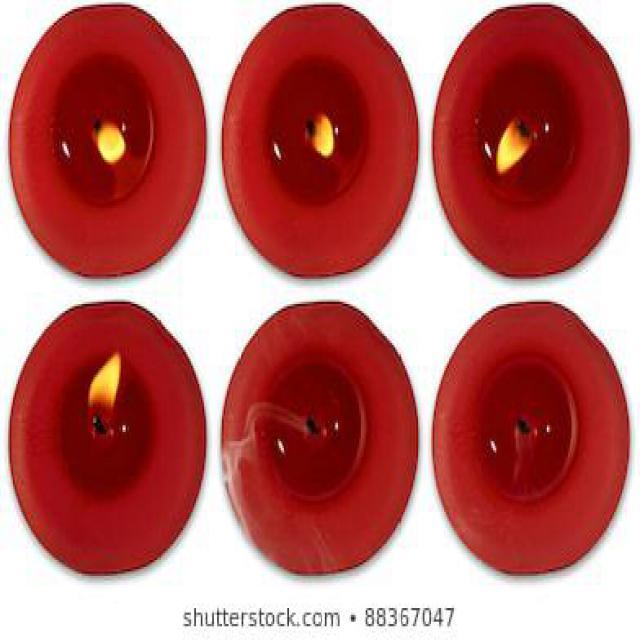Fire: (88, 353, 121, 429), (496, 115, 534, 175), (301, 111, 334, 159), (94, 118, 126, 166)
